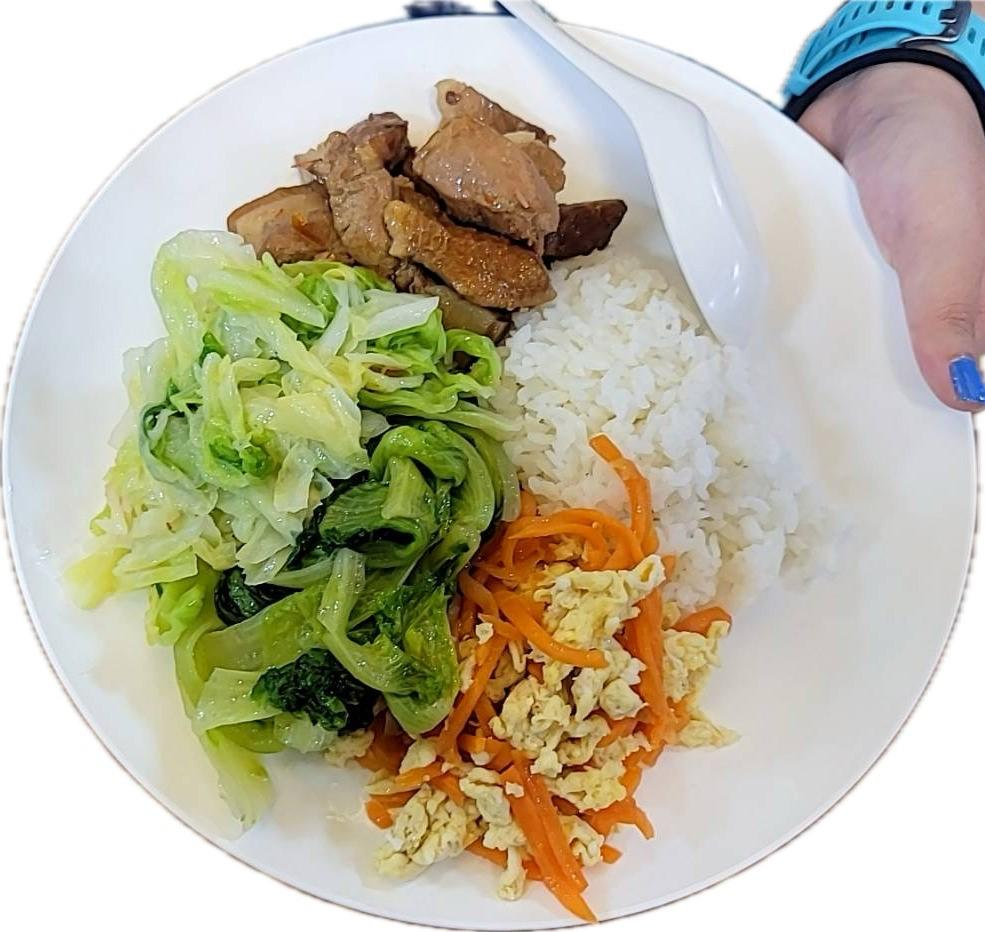big fried chicken leg: (8, 12, 985, 929)
big herbal chicken leg: (498, 270, 837, 609)
braised fish fillet: (169, 324, 510, 821), (386, 460, 738, 908), (63, 226, 428, 599)
braised pork: (210, 76, 634, 338)
